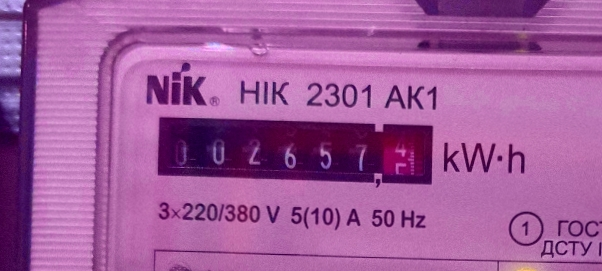0: (210, 135, 226, 165), (172, 137, 189, 165)
2: (246, 136, 263, 165)
4: (393, 131, 408, 157)
5: (317, 139, 334, 170), (393, 160, 408, 175)
6: (283, 139, 297, 169)
7: (354, 140, 369, 172)
screen: (148, 105, 444, 195)
